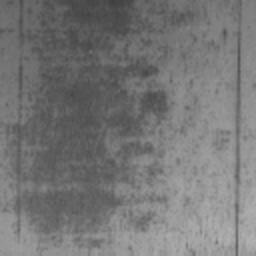Scratches: (232, 28, 242, 256), (15, 54, 24, 239), (15, 0, 24, 47)
